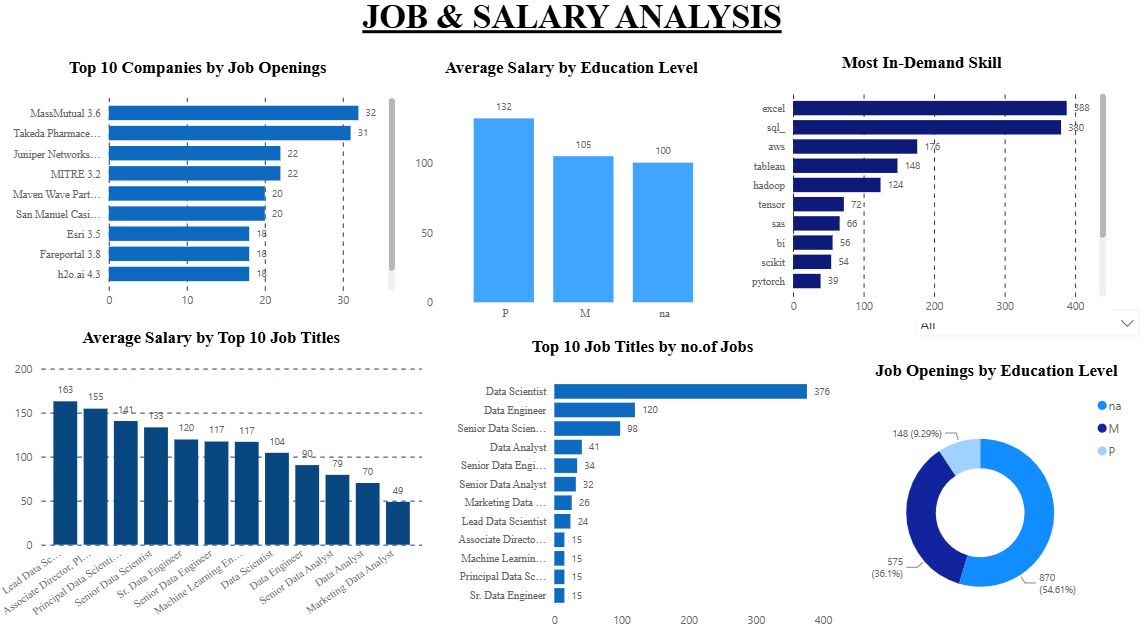

The dashboard page shown, as its layout file describes it:
{"tool":"powerbi","page":{"name":"Jobs, Skills & Salary Insights","canvas":[1280,720],"ordinal":2},"visuals":[{"type":"textbox","box":[0,0,1280,61.7],"z":0},{"type":"clusteredBarChart","title":"Top 10 Companies by Job Openings","fields":{"Y":["CountNonNull(Job_Market_Final_Cleaned.ID)"],"Category":["Job_Market_Final_Cleaned.Company_Name"]},"box":[0,71.7,448.3,288.3],"z":1000},{"type":"clusteredBarChart","title":"Top 10 Job Titles by no.of Jobs","fields":{"Category":["Job_Market_Final_Cleaned.Job_Title"],"Y":["CountNonNull(Job_Market_Final_Cleaned.ID)"]},"box":[495,381.7,446.7,333.3],"z":2000},{"type":"clusteredColumnChart","title":"Average Salary by Top 10 Job Titles","fields":{"Category":["Job_Market_Final_Cleaned.Job_Title"],"Y":["Avg(Job_Market_Final_Cleaned.Avg_SalaryK)"]},"box":[0,371.7,478.3,333.3],"z":3000},{"type":"slicer","title":"Education","fields":{"Values":["Job_Market_Final_Cleaned.Degree"]},"box":[1011.7,310,268.3,98.3],"z":4000},{"type":"clusteredBarChart","title":"Most In-Demand Skill","fields":{"Category":["Job_Market_Final_Cleaned.Skill"],"Y":["CountNonNull(Job_Market_Final_Cleaned.Skill)"]},"box":[818.3,66.7,420,300],"z":5000},{"type":"clusteredColumnChart","title":"Average Salary by Education Level","fields":{"Category":["Job_Market_Final_Cleaned.Degree"],"Y":["Avg(Job_Market_Final_Cleaned.Avg_SalaryK)"]},"box":[460,71.7,358.3,300],"z":6000},{"type":"donutChart","title":"Job Openings by Education Level","fields":{"Category":["Job_Market_Final_Cleaned.Degree"],"Y":["CountNonNull(Job_Market_Final_Cleaned.ID)"]},"box":[958.3,408.3,306.7,306.7],"z":7000}]}

Visuals, with their boxes in screenshot pixels (x1, y1, x2, y2), scaled from the page's 1280x720 canvas onto the 1145x636 screenshot:
textbox: 0:0:1144:55
"Top 10 Companies by Job Openings" clusteredBarChart: 0:63:401:318
"Top 10 Job Titles by no.of Jobs" clusteredBarChart: 443:337:842:632
"Average Salary by Top 10 Job Titles" clusteredColumnChart: 0:328:428:623
"Education" slicer: 905:274:1144:361
"Most In-Demand Skill" clusteredBarChart: 732:59:1108:324
"Average Salary by Education Level" clusteredColumnChart: 411:63:732:328
"Job Openings by Education Level" donutChart: 857:361:1132:632
